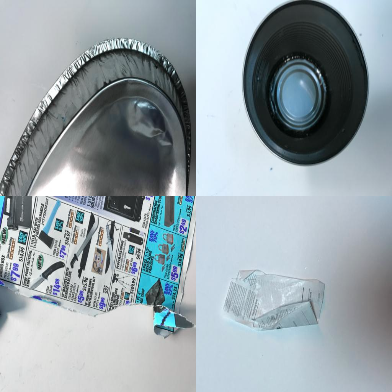metal: (1, 38, 191, 194), (242, 1, 369, 165)
paper: (1, 196, 195, 338), (221, 269, 324, 330)
